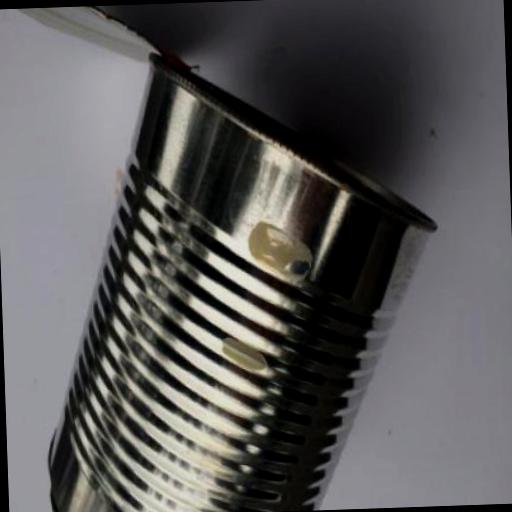metal: (32, 40, 447, 512), (12, 2, 190, 74)
